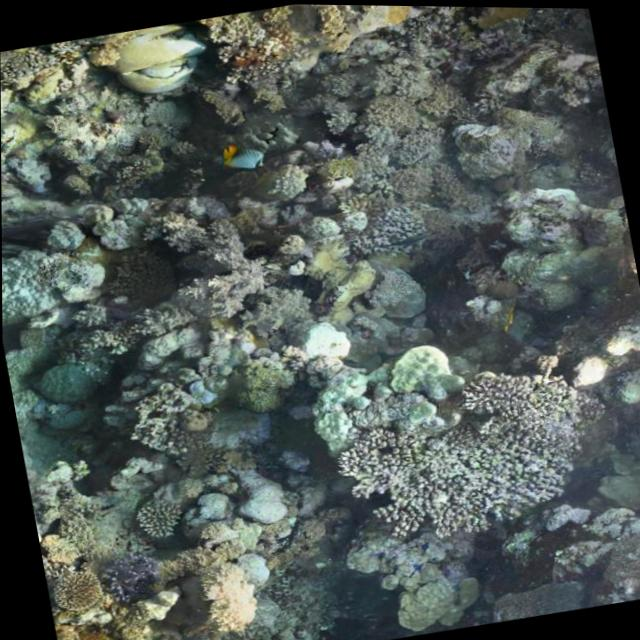Bleached Coral: (342, 362, 616, 538)
